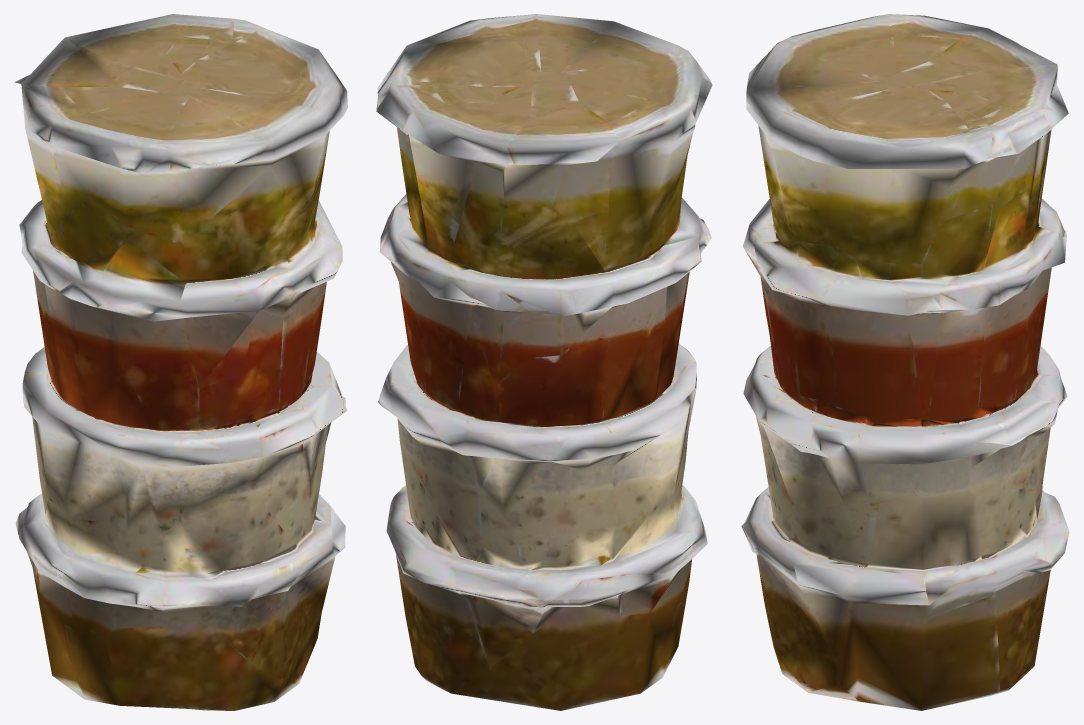
The model's file is mobile.glb.
3 renders of one model, left to right at view 1: azimuth 30°, elevation 25°; view 2: azimuth 150°, elevation 25°; view 3: azimuth 270°, elevation 25°, orthographic.
Parts seen in each view (by area): view 1: d-takeoutstack; view 2: d-takeoutstack; view 3: d-takeoutstack.
Boxes of the visible parts, box(x1,y1,x2,y2) form: d-takeoutstack: box(14, 14, 347, 710); d-takeoutstack: box(376, 14, 712, 710); d-takeoutstack: box(741, 14, 1069, 710).
Size of the model in its own units: 0.128 by 0.2493 by 0.1277.
1 material, 1 textured.
